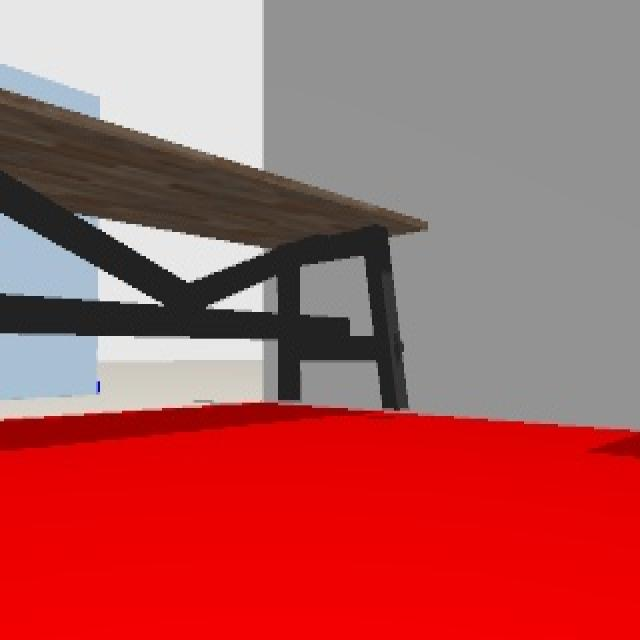dining: (4, 84, 449, 416)
